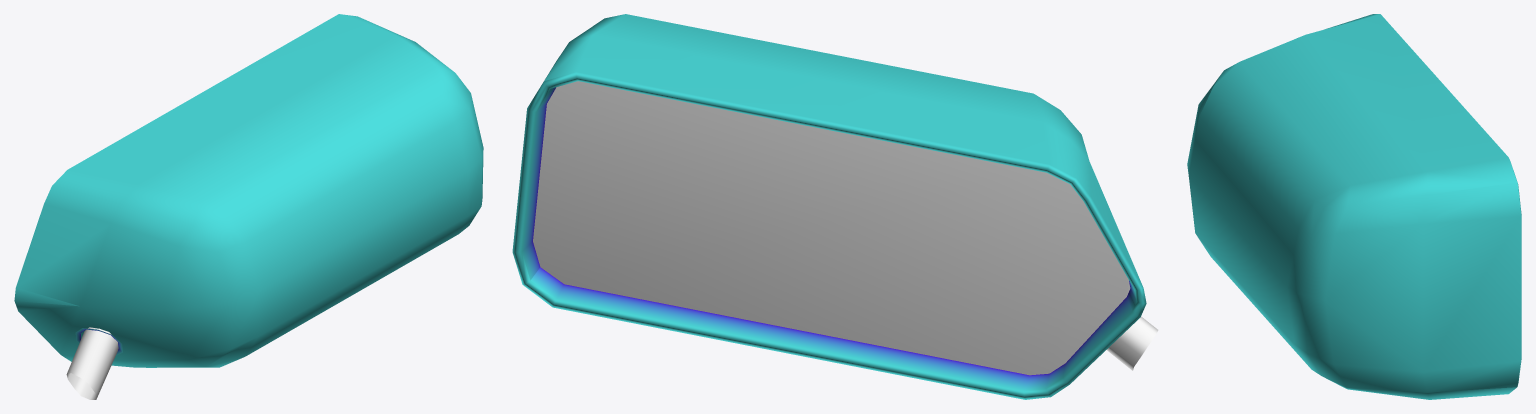
File: Car_Nissan_SkylineGTRVspecR34_1999_MirrorL_SetF.fbx
3 views of the same model, side by side, from view 1: azimuth 30°, elevation 25°; view 2: azimuth 150°, elevation 25°; view 3: azimuth 270°, elevation 25° (orthographic). The views are drawn at different scales.
Parts seen in each view (by area): view 1: MirrorL 6; view 2: MirrorL 6; view 3: MirrorL 6.
Part boxes in pixels (x1,y1,x2,y2): MirrorL 6: [14, 14, 483, 399]; MirrorL 6: [512, 14, 1158, 399]; MirrorL 6: [1187, 14, 1521, 399].
Bounding box in the file's own units: 0.1791 × 0.0857 × 0.0973.
